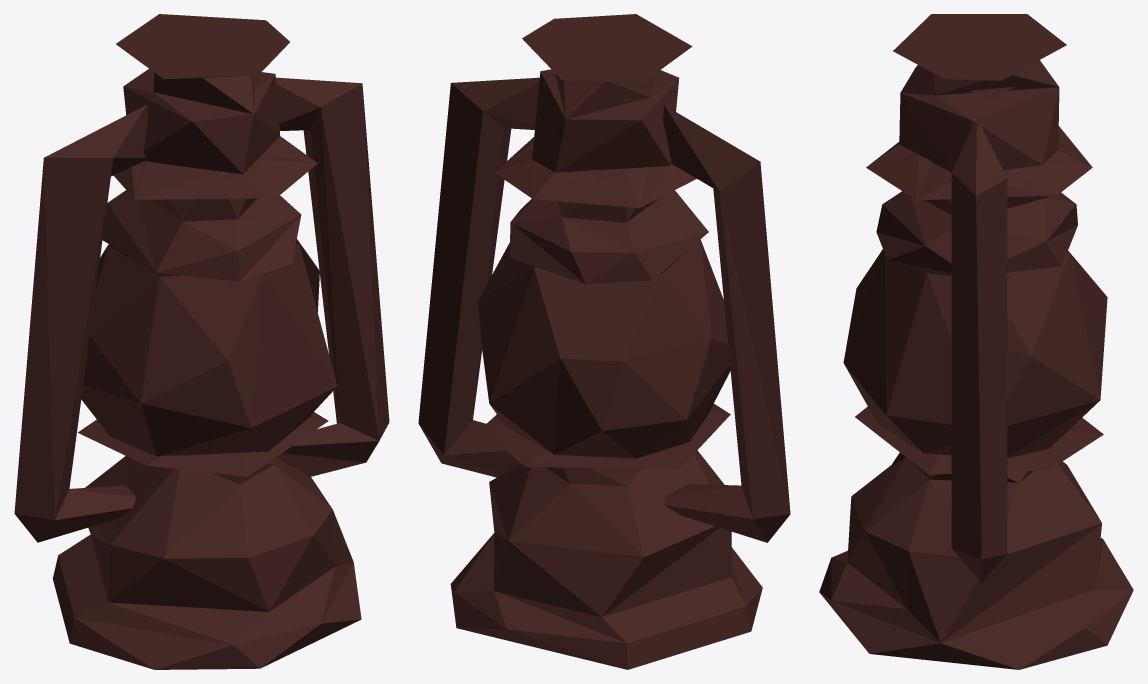
The model's file is oil-lantern.lod1.glb.
3 views of the same model, side by side, from view 1: azimuth 30°, elevation 25°; view 2: azimuth 150°, elevation 25°; view 3: azimuth 270°, elevation 25° (orthographic).
Visible parts, largest first — view 1: Cylinder.005_Material.001_0; view 2: Cylinder.005_Material.001_0; view 3: Cylinder.005_Material.001_0.
Part boxes in pixels (left/top/right/bottom): Cylinder.005_Material.001_0: left=14, top=14, right=389, bottom=669; Cylinder.005_Material.001_0: left=418, top=14, right=790, bottom=669; Cylinder.005_Material.001_0: left=819, top=14, right=1133, bottom=669.
Bounding box in the file's own units: 0.2745 × 0.3905 × 0.1994.
